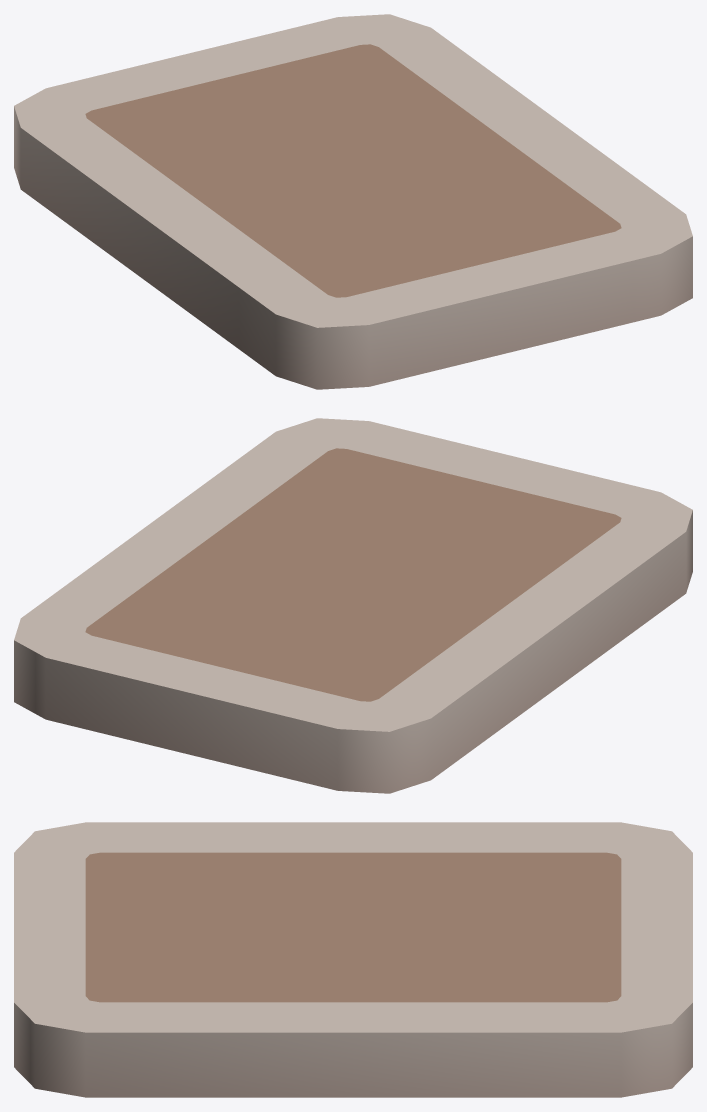
File: cutting-board-basic.glb
3 renders of one model, top to bottom at view 1: azimuth 30°, elevation 25°; view 2: azimuth 150°, elevation 25°; view 3: azimuth 270°, elevation 25°, orthographic. The views are drawn at different scales.
Visible parts, largest first — view 1: cutting-board-basic; view 2: cutting-board-basic; view 3: cutting-board-basic.
Boxes of the visible parts, left/top/right/bottom form: cutting-board-basic: left=14, top=14, right=692, bottom=389; cutting-board-basic: left=14, top=418, right=692, bottom=793; cutting-board-basic: left=14, top=822, right=692, bottom=1097.
Bounding box in the file's own units: 0.2776 × 0.04 × 0.3789.
